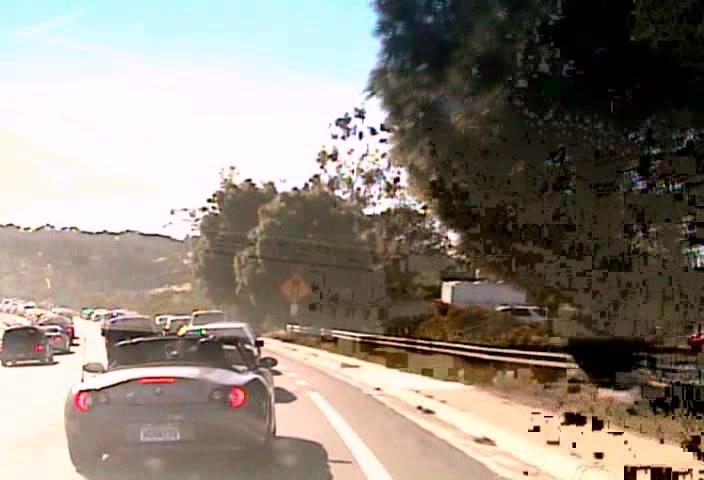signalAhead: (278, 272, 312, 304)
